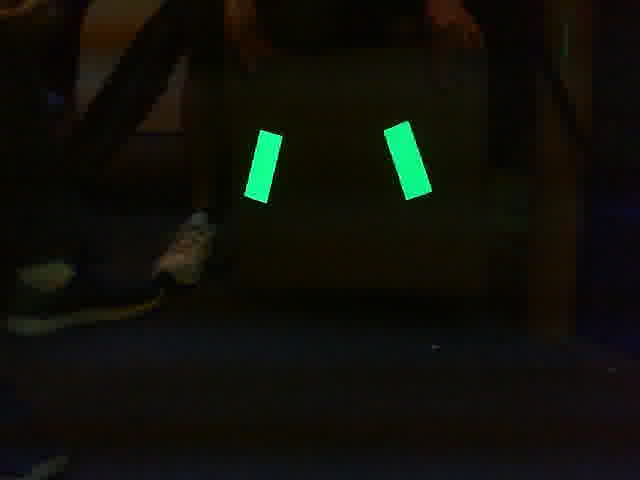target: (241, 118, 434, 207)
